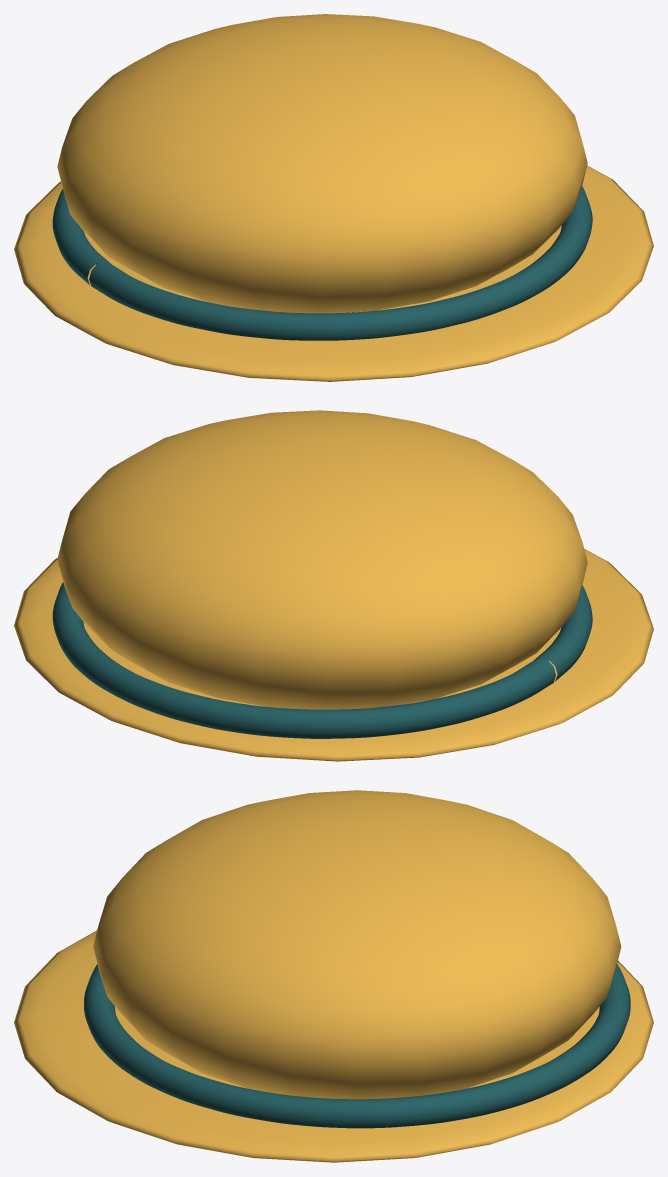
Rendered from NeighborSunHat.fbx.
3 renders of one model, top to bottom at view 1: azimuth 30°, elevation 25°; view 2: azimuth 150°, elevation 25°; view 3: azimuth 270°, elevation 25°, orthographic. The views are drawn at different scales.
Visible parts, largest first — view 1: SoftHatCrown, HatBrim, HatRibbon; view 2: SoftHatCrown, HatBrim, HatRibbon; view 3: SoftHatCrown, HatBrim, HatRibbon.
Part boxes in pixels (box(x1,y1,x2,y2)): SoftHatCrown: box(57, 14, 587, 313); HatBrim: box(14, 165, 653, 381); HatRibbon: box(52, 186, 592, 340); SoftHatCrown: box(57, 410, 587, 709); HatBrim: box(14, 549, 653, 761); HatRibbon: box(52, 582, 592, 738); SoftHatCrown: box(93, 790, 621, 1099); HatBrim: box(14, 930, 653, 1162); HatRibbon: box(84, 964, 630, 1128).
Size of the model in its own units: 42.4 by 15 by 41.2.
